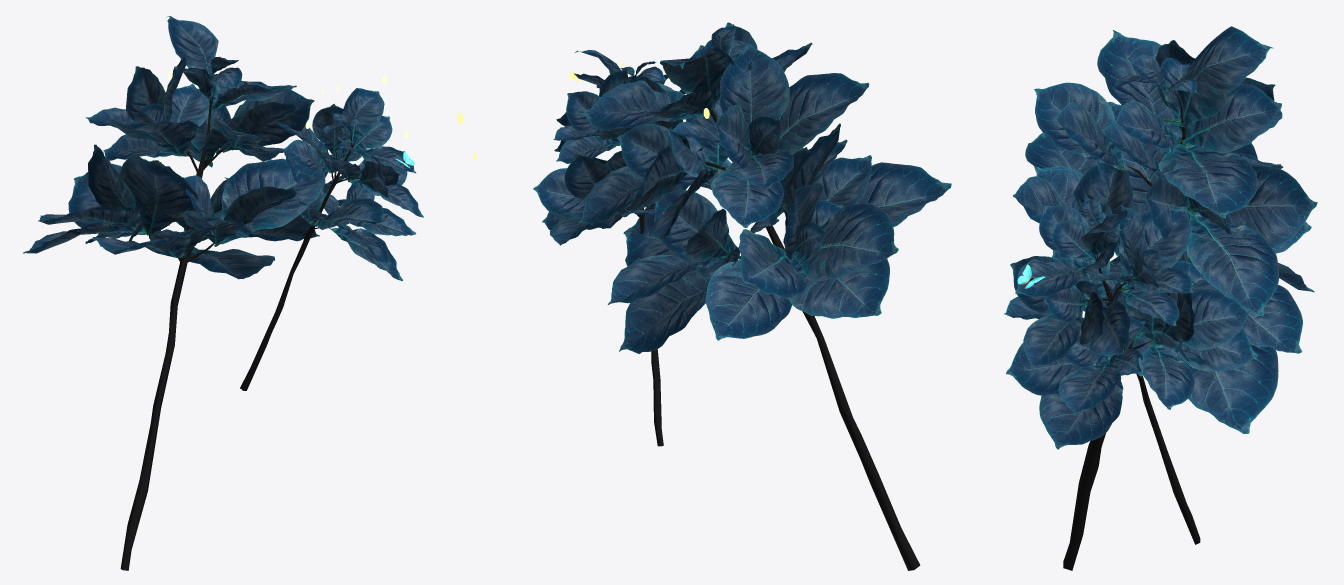
The model's file is butterfly-cleaned.glb.
3 renders of one model, left to right at view 1: azimuth 30°, elevation 25°; view 2: azimuth 150°, elevation 25°; view 3: azimuth 270°, elevation 25°, orthographic. The views are drawn at different scales.
Visible parts, largest first — view 1: tree.003, tree; view 2: tree.003, tree; view 3: tree.003, tree.
Part boxes in pixels (box(x1,y1,x2,y2)): tree.003: box(23, 16, 325, 570); tree: box(224, 88, 423, 390); tree.003: box(577, 22, 951, 570); tree: box(533, 50, 702, 446); tree.003: box(1013, 26, 1317, 570); tree: box(1004, 199, 1257, 544).
Size of the model in its own units: 49.16 by 60.41 by 29.93.
Materials: 4 (2 with a texture image).
